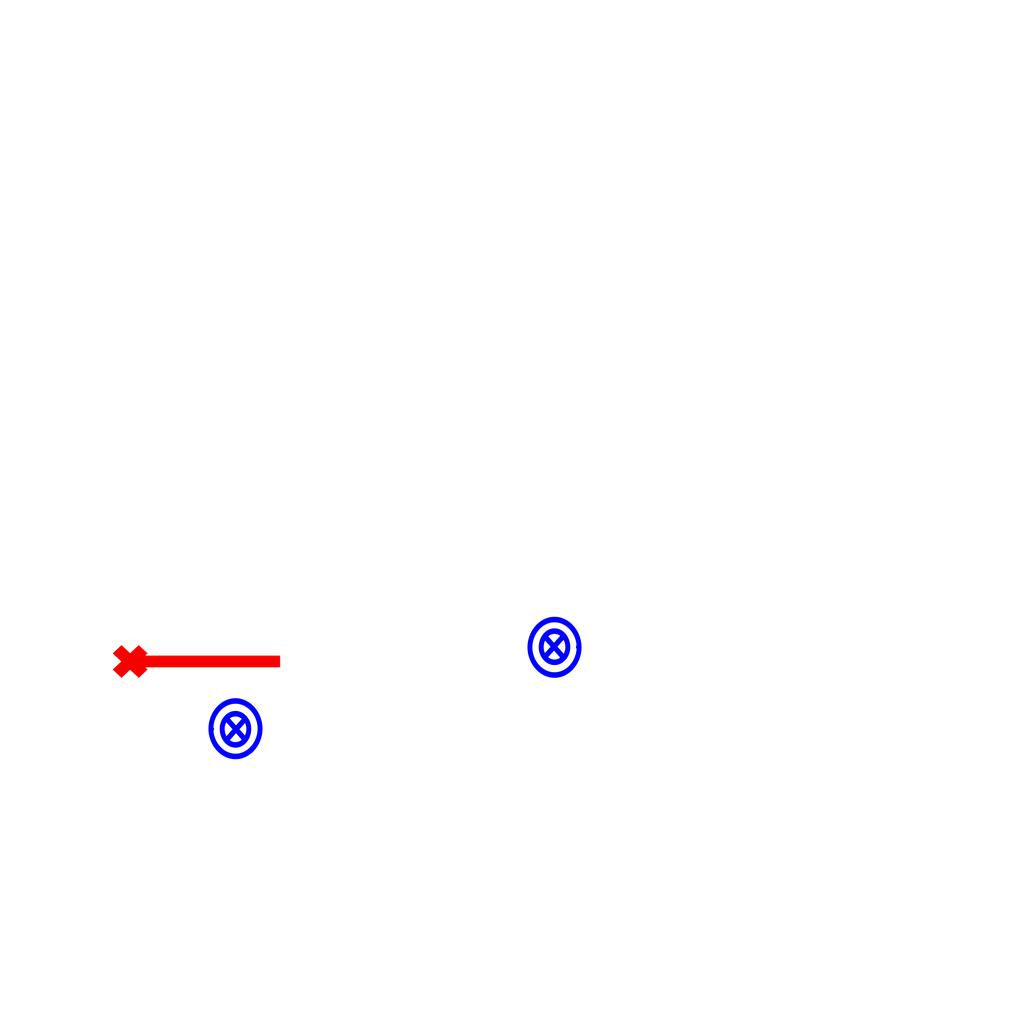ASR_Ansaugoeffnung: (110, 636, 286, 682)
Taster_beleuchtet: (203, 696, 269, 762), (521, 614, 587, 680)
